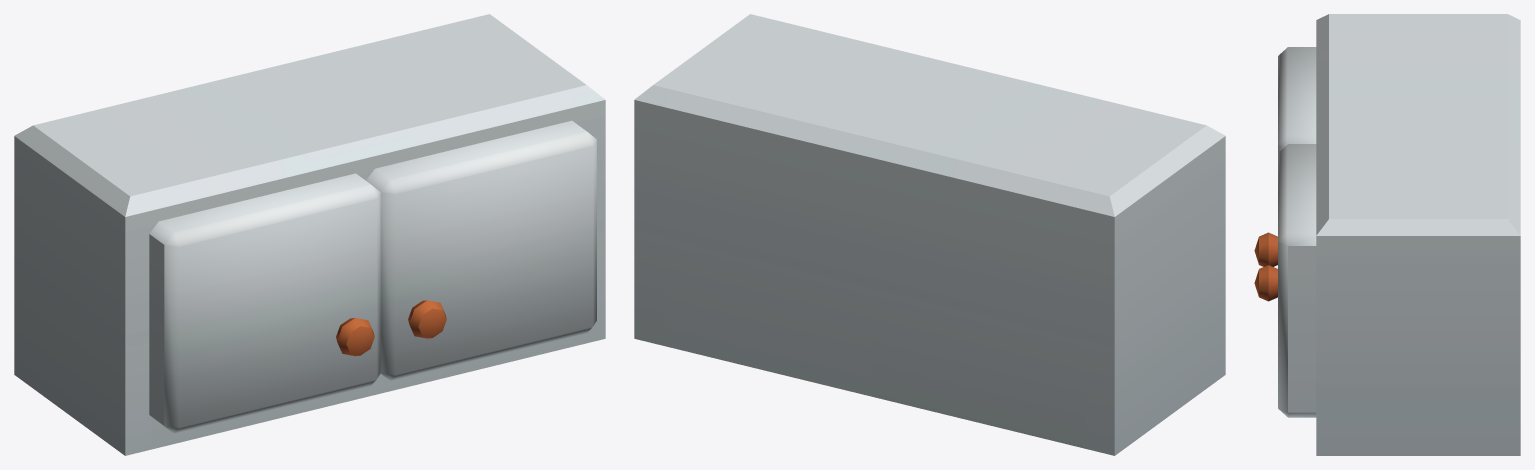
File: kaykit-restaurant-bits-kitchencabinet-half.glb
The picture shows the model from 3 angles, left to right: view 1: azimuth 30°, elevation 25°; view 2: azimuth 150°, elevation 25°; view 3: azimuth 270°, elevation 25°; orthographic projection. The views are drawn at different scales.
Visible parts, largest first — view 1: kitchencabinet_half; view 2: kitchencabinet_half; view 3: kitchencabinet_half.
Part boxes in pixels (<box>): kitchencabinet_half: <box>14,14,605,455</box>; kitchencabinet_half: <box>634,14,1225,455</box>; kitchencabinet_half: <box>1254,14,1520,455</box>.
Bounding box in the file's own units: 2 × 1 × 1.04.
1 material, 1 textured.
